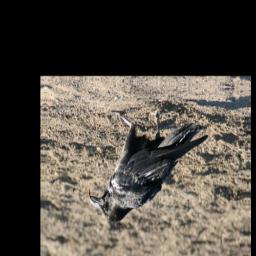Crow: (87, 99, 210, 230)
